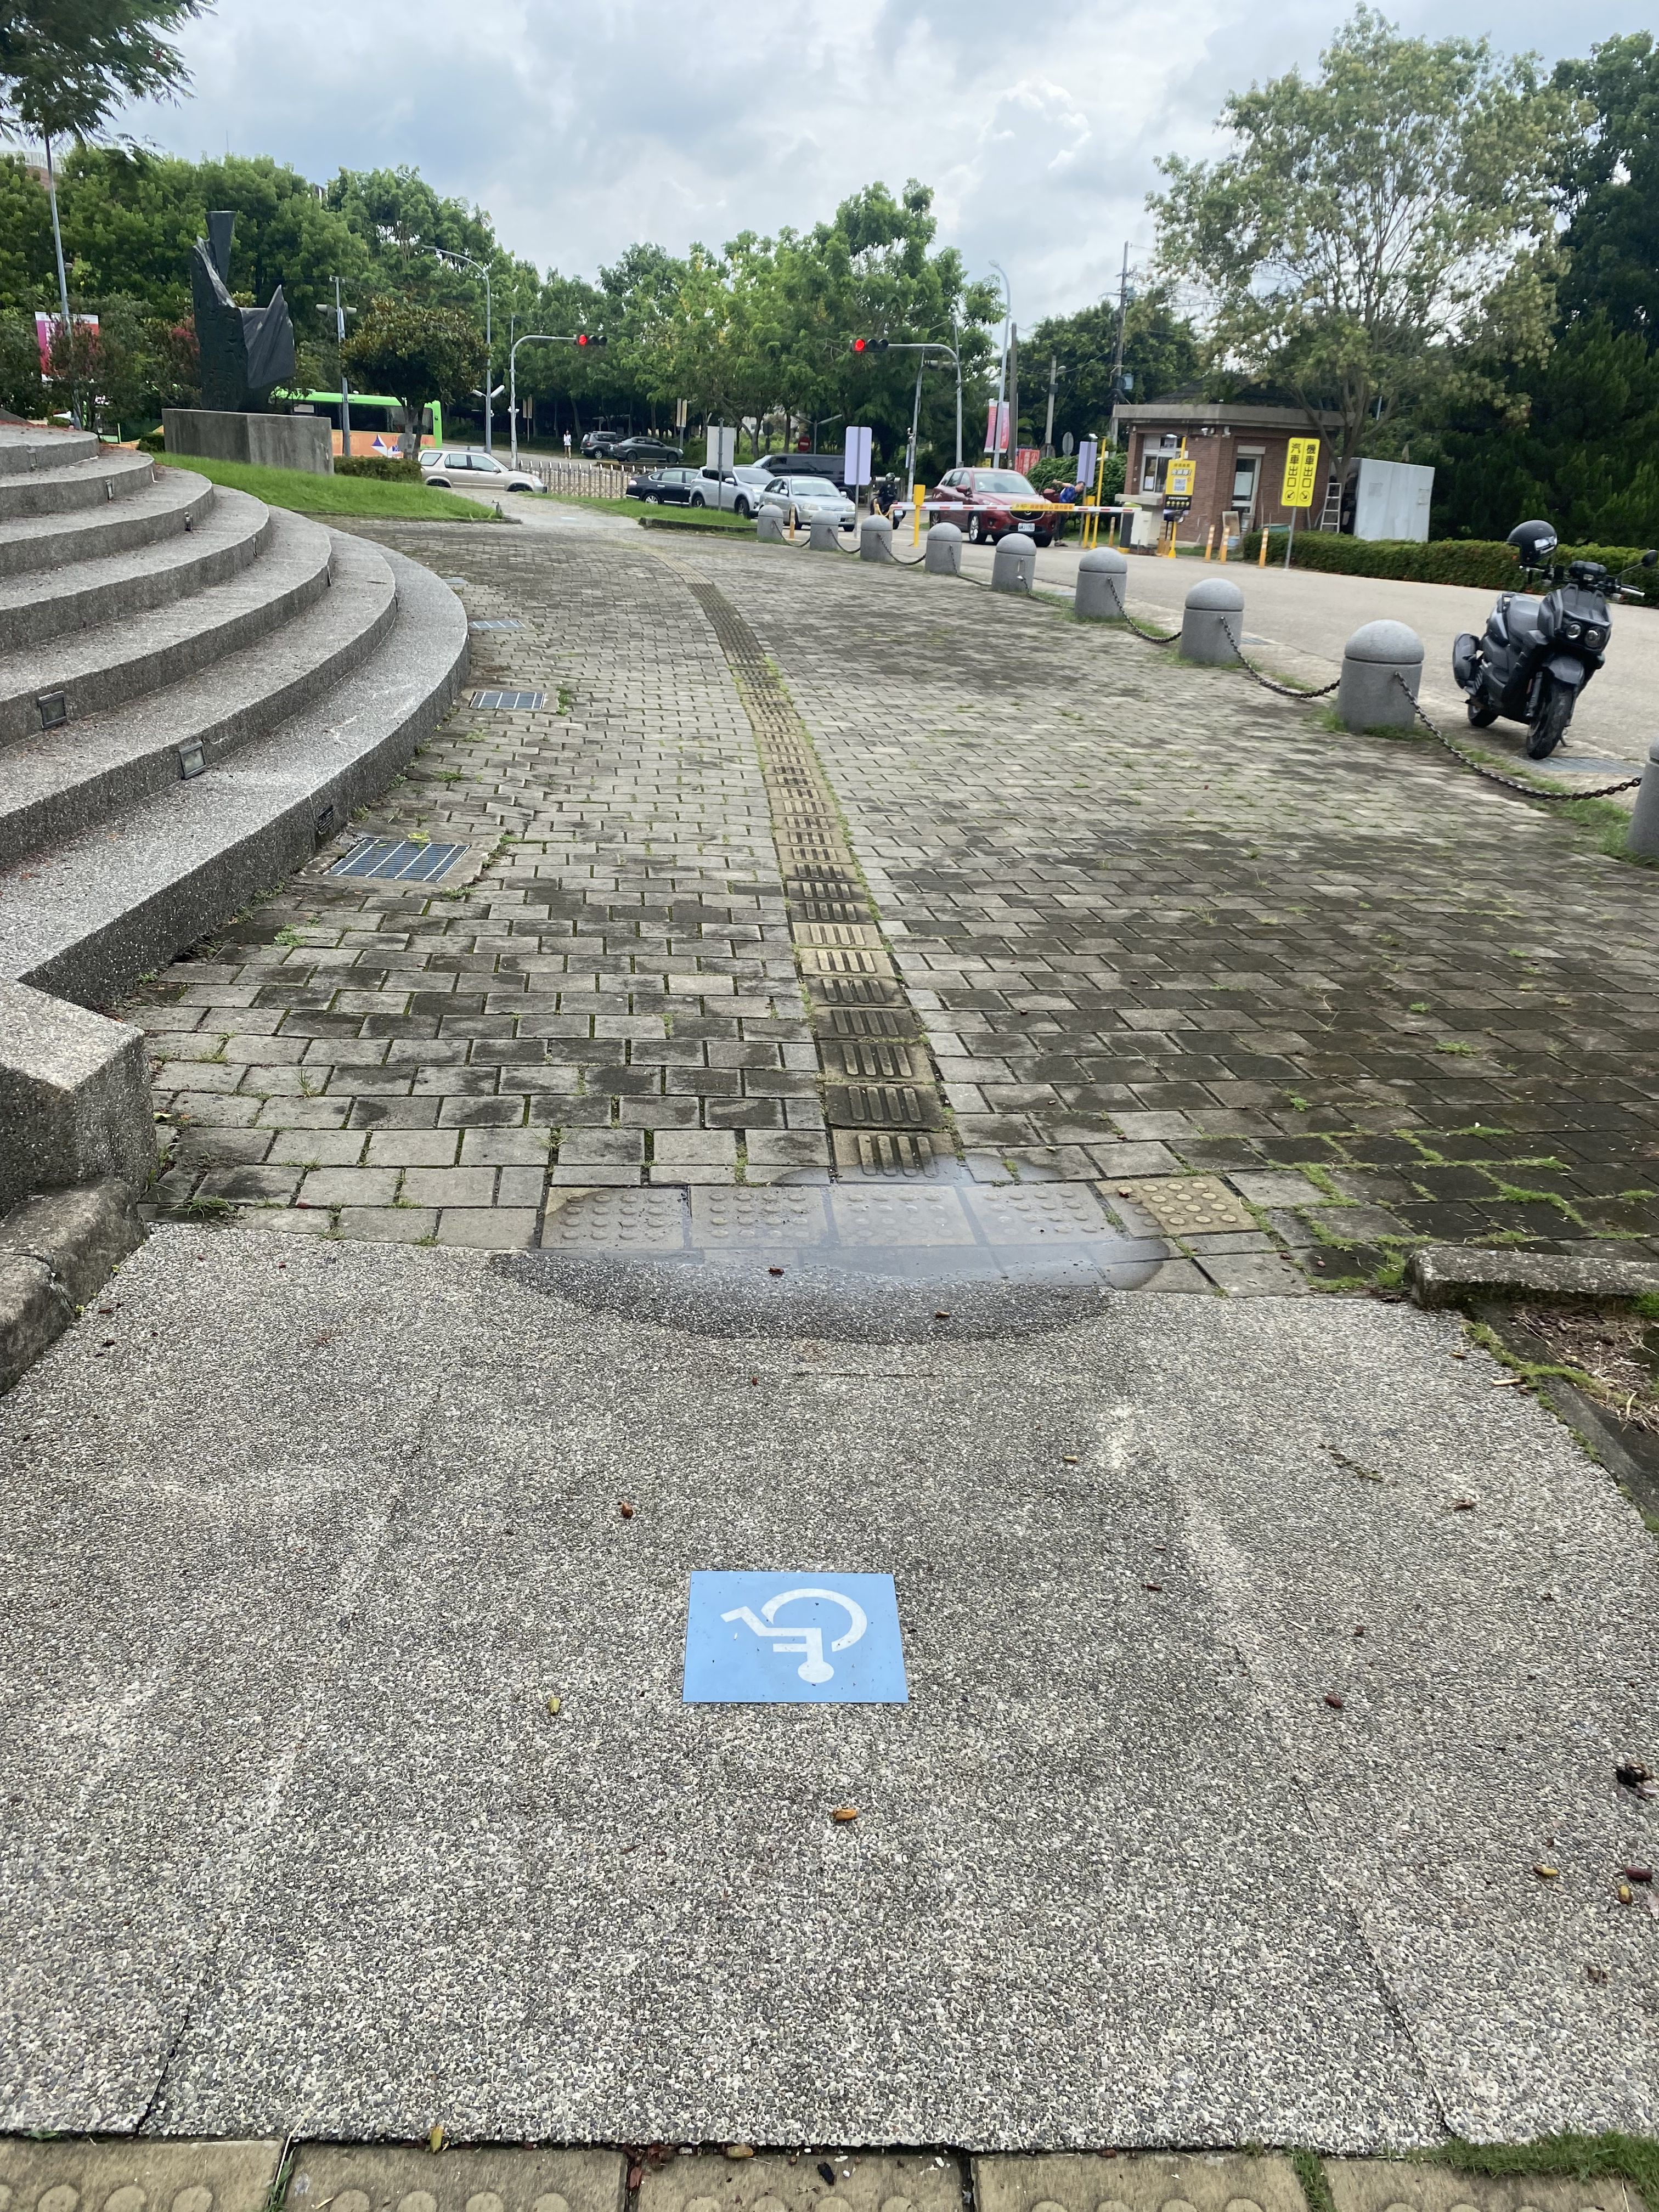0: (3, 986, 1659, 2212)
sidewalk: (181, 472, 1659, 1602)
